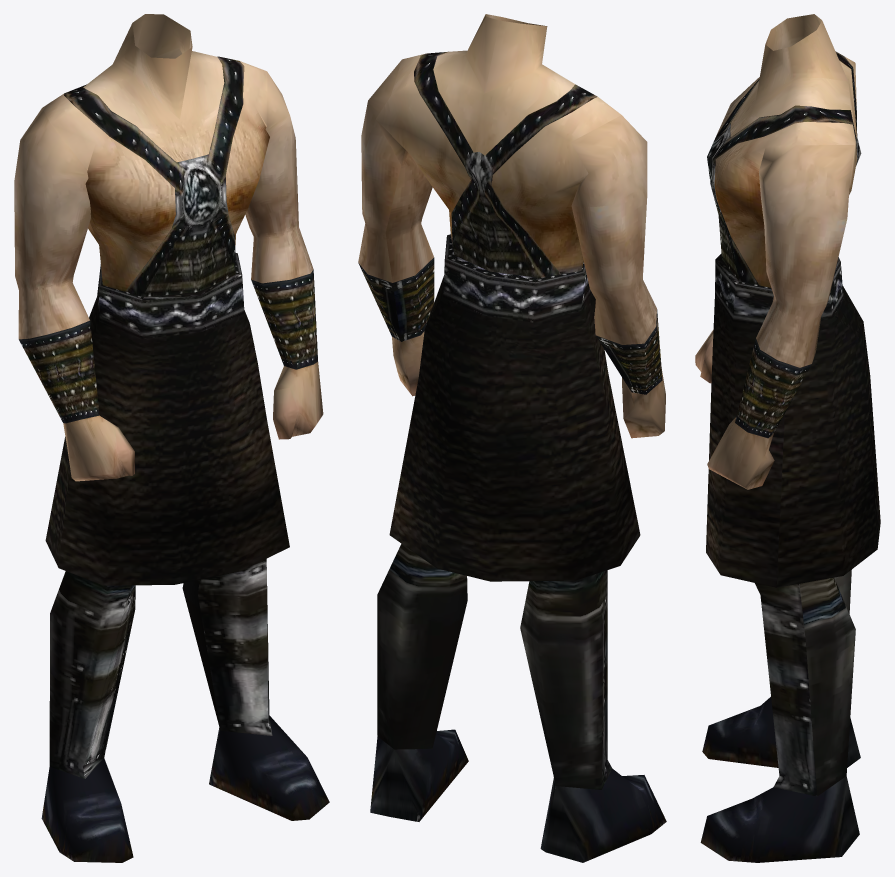
The model's file is GLADIATORCHYBA.glb.
3 views of the same model, side by side, from view 1: azimuth 30°, elevation 25°; view 2: azimuth 150°, elevation 25°; view 3: azimuth 270°, elevation 25° (orthographic). The views are drawn at different scales.
Visible parts, largest first — view 1: GLADIATORCHYBA; view 2: GLADIATORCHYBA; view 3: GLADIATORCHYBA.
Boxes of the visible parts, box(x1,y1,x2,y2) form: GLADIATORCHYBA: box(14, 14, 329, 862); GLADIATORCHYBA: box(358, 14, 666, 862); GLADIATORCHYBA: box(695, 14, 880, 862).
Size of the model in its own units: 0.6347 by 1.7 by 0.3651.
2 materials, 2 textured.
